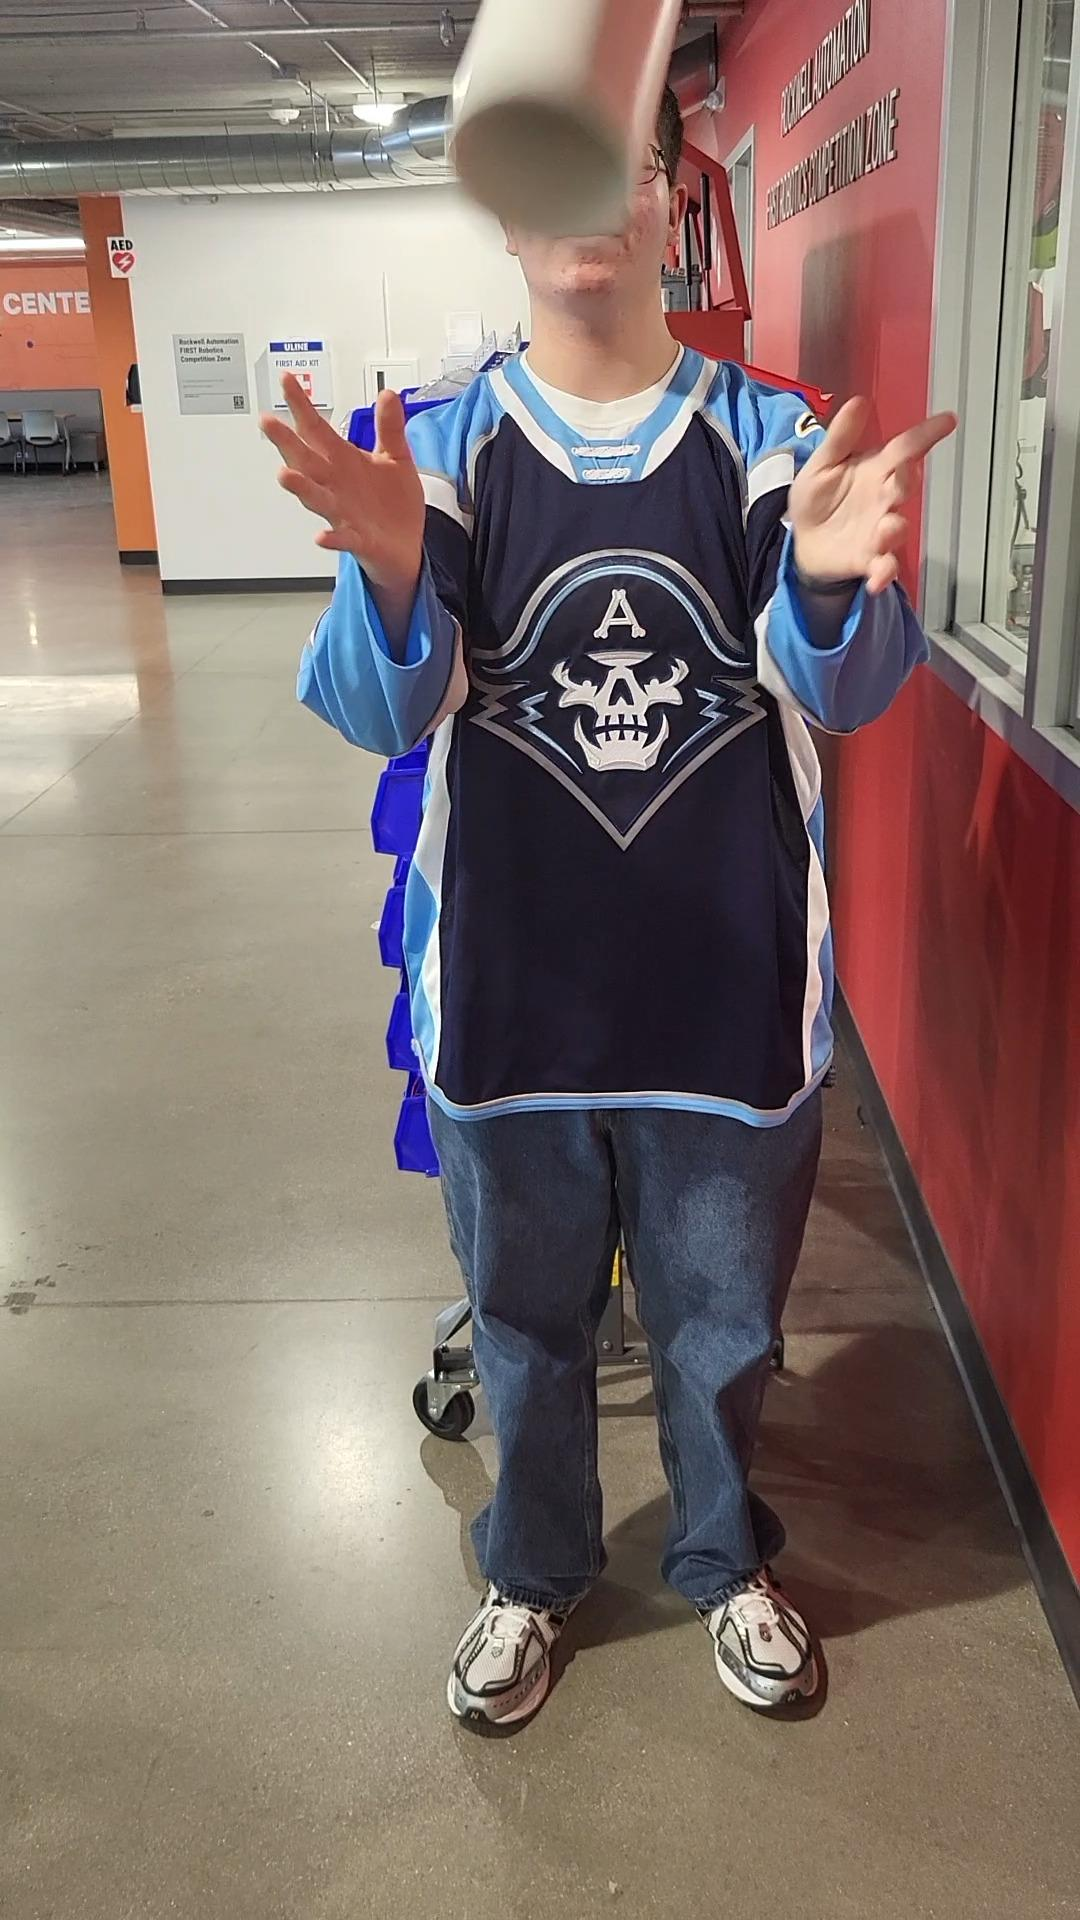coral: (450, 0, 680, 236)
